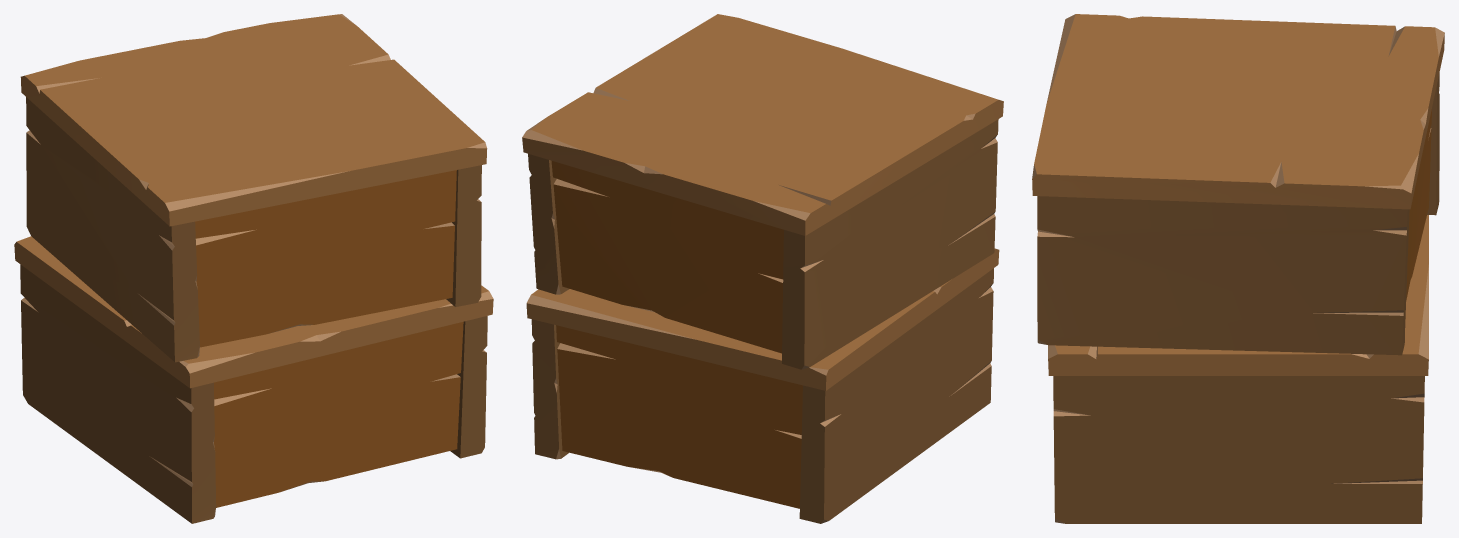
The picture shows the model from 3 angles, left to right: view 1: azimuth 30°, elevation 25°; view 2: azimuth 150°, elevation 25°; view 3: azimuth 270°, elevation 25°; orthographic projection. The views are drawn at different scales.
Parts seen in each view (by area): view 1: 20C_Box01; view 2: 20C_Box01; view 3: 20C_Box01.
Boxes of the visible parts, left/top/right/bottom form: 20C_Box01: left=14, top=14, right=493, bottom=523; 20C_Box01: left=522, top=14, right=1003, bottom=523; 20C_Box01: left=1032, top=14, right=1444, bottom=523.
Size of the model in its own units: 12.98 by 12 by 12.99.
